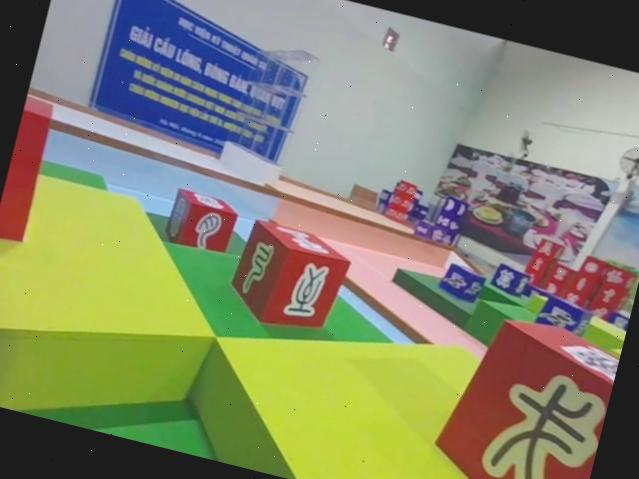R2 Fake: (413, 301, 623, 479), (222, 217, 356, 344), (162, 186, 242, 260)
